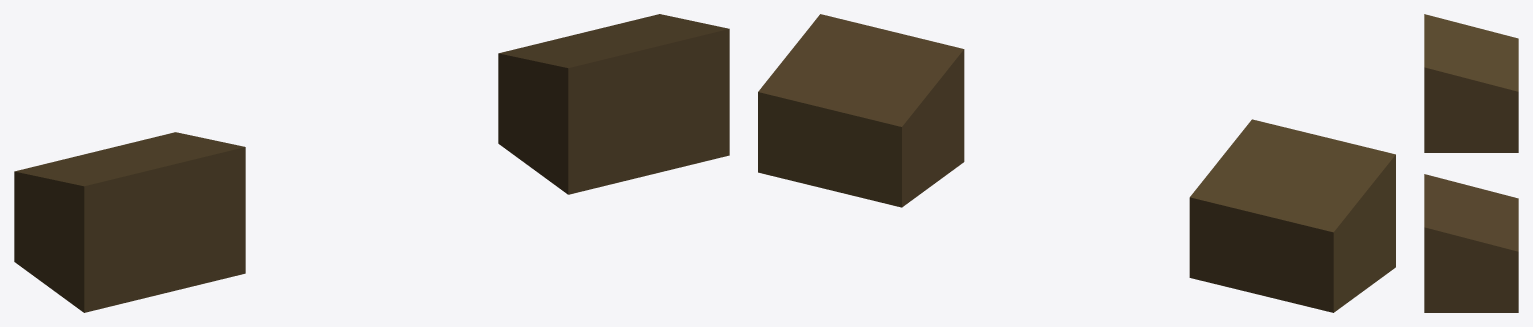
File: W15_Lake_Bank_Inlet.fbx
3 views of the same model, side by side, from view 1: azimuth 30°, elevation 25°; view 2: azimuth 150°, elevation 25°; view 3: azimuth 270°, elevation 25° (orthographic). The views are drawn at different scales.
Parts seen in each view (by area): view 1: W15_Lake_Bank_Inlet; view 2: W15_Lake_Bank_Inlet; view 3: W15_Lake_Bank_Inlet.
Part boxes in pixels (x1,y1,x2,y2): W15_Lake_Bank_Inlet: (14, 14, 729, 312); W15_Lake_Bank_Inlet: (758, 14, 1395, 312); W15_Lake_Bank_Inlet: (1424, 14, 1518, 312).
Size of the model in its own units: 4 by 0.75 by 0.75.
Materials: 1 (1 with a texture image).
